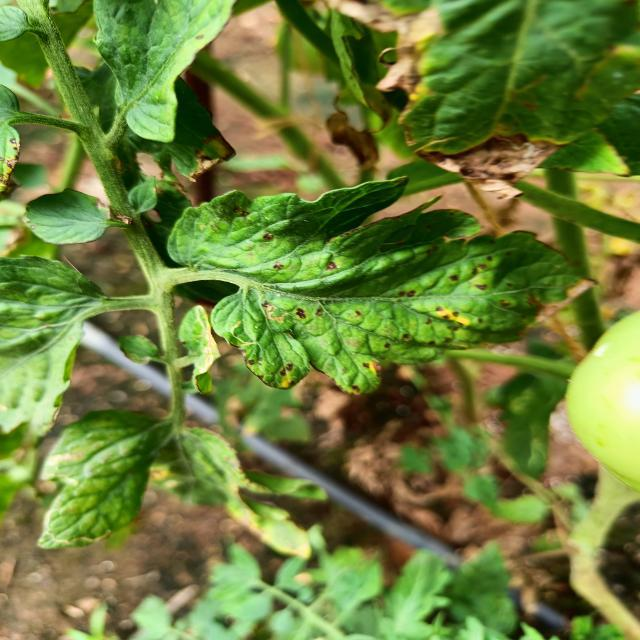Tomato mosaic virus leaf: (162, 174, 602, 398)
